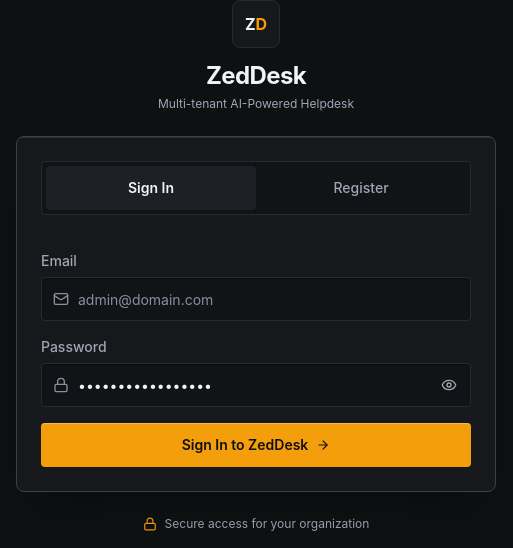
Test: AuthCard Component › toggles password visibility when eye icon button is clicked
Click the button named "show password".
click(449, 385)  # box x1=427 y1=363 x2=471 y2=407
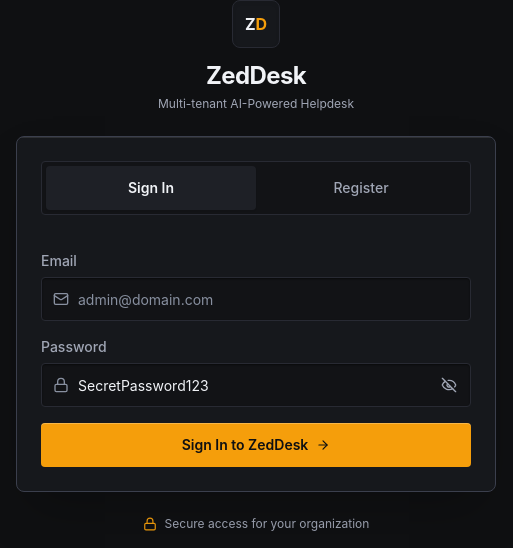
Check: the field labelled "Password" shows its text, box x1=41 y1=363 x2=471 y2=407
Check: the button named "hide password" is shown, box x1=427 y1=363 x2=471 y2=407
